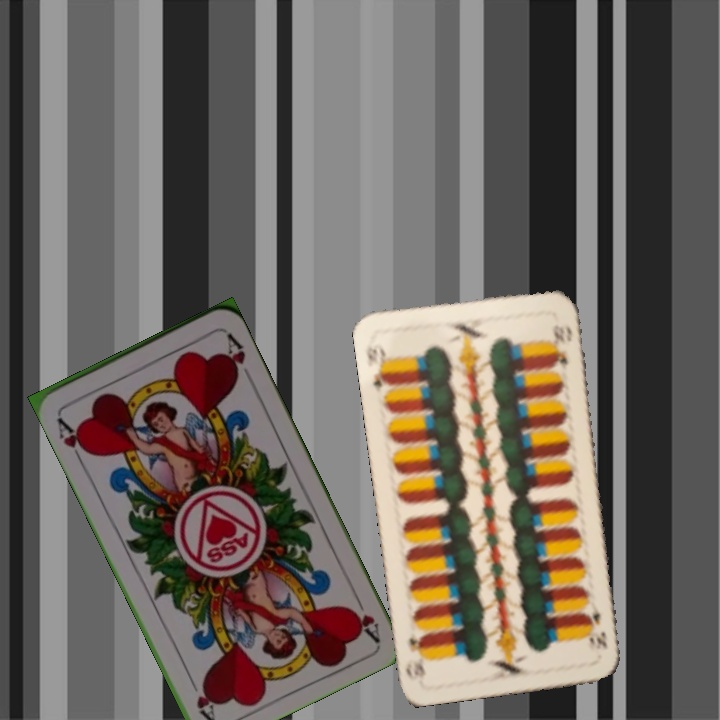E10: (362, 339, 393, 393), (584, 598, 610, 652)
HA: (53, 409, 93, 465), (345, 587, 383, 644)
